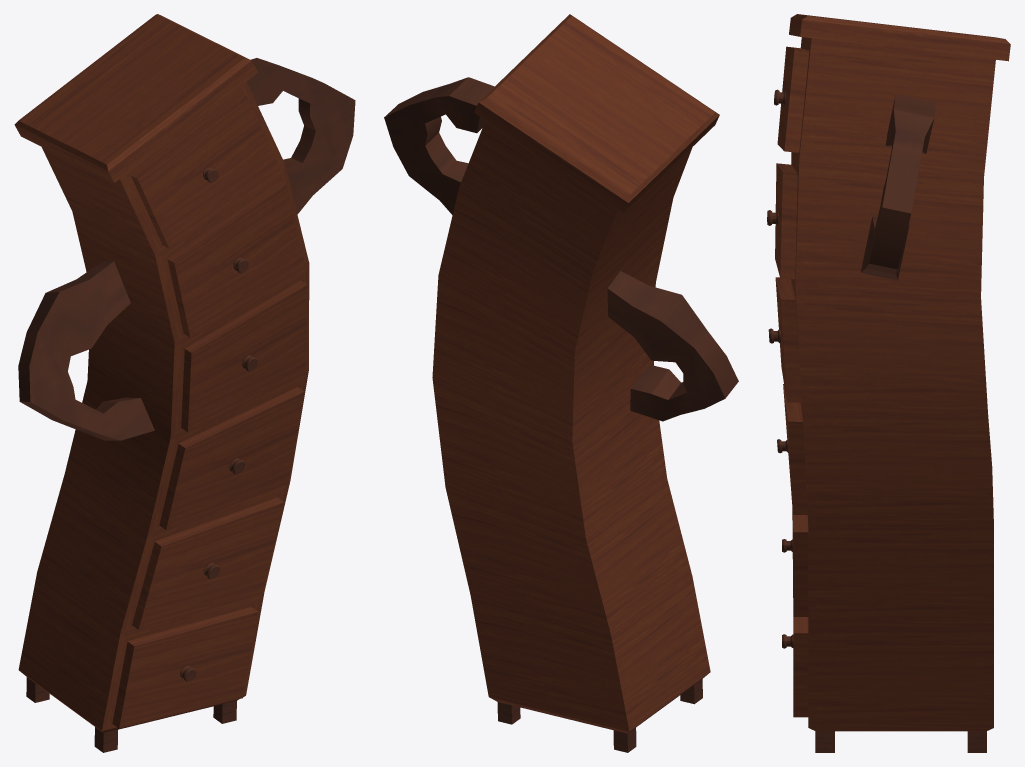
The model's file is Cabinet_variation_3.fbx.
The picture shows the model from 3 angles, left to right: view 1: azimuth 30°, elevation 25°; view 2: azimuth 150°, elevation 25°; view 3: azimuth 270°, elevation 25°; orthographic projection. The views are drawn at different scales.
Visible parts, largest first — view 1: Cabinet_Variation_3; view 2: Cabinet_Variation_3; view 3: Cabinet_Variation_3.
Part boxes in pixels (<box>): Cabinet_Variation_3: <box>14,14,355,752</box>; Cabinet_Variation_3: <box>384,14,738,752</box>; Cabinet_Variation_3: <box>767,14,1010,752</box>.
Size of the model in its own units: 470 by 879 by 262.
